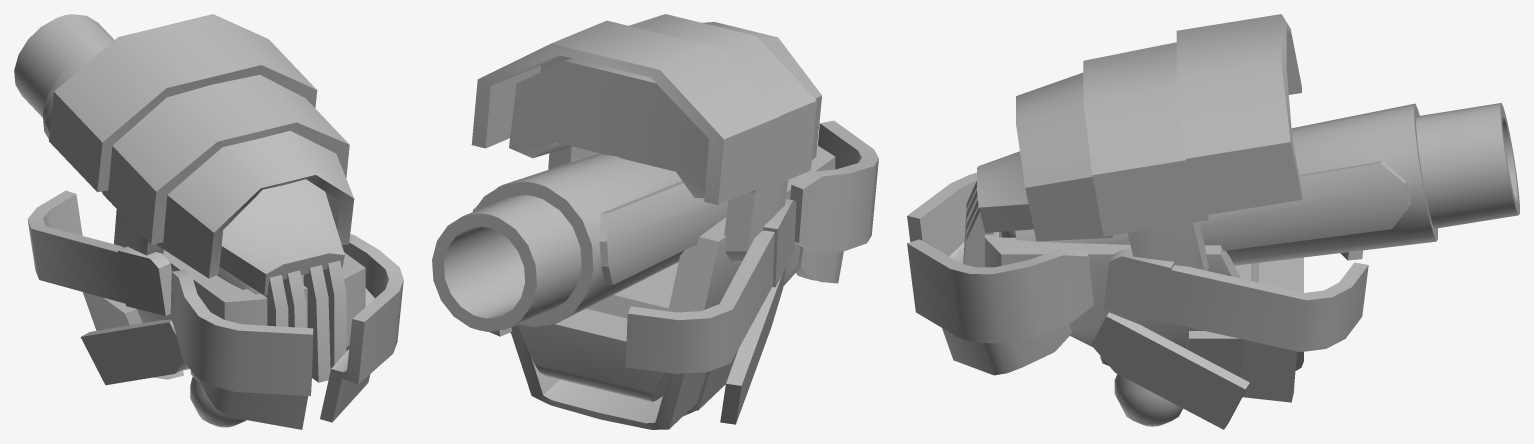
File: cannon_head_separate.glb
3 views of the same model, side by side, from view 1: azimuth 30°, elevation 25°; view 2: azimuth 150°, elevation 25°; view 3: azimuth 270°, elevation 25° (orthographic). The views are drawn at different scales.
Parts seen in each view (by area): view 1: cannon_main_head; view 2: cannon_main_head; view 3: cannon_main_head.
Part boxes in pixels (left/top/right/bottom): cannon_main_head: left=14, top=14, right=403, bottom=429; cannon_main_head: left=432, top=14, right=878, bottom=429; cannon_main_head: left=907, top=14, right=1519, bottom=429.
Bounding box in the file's own units: 619 × 859 × 1240.
1 material, 1 textured.
